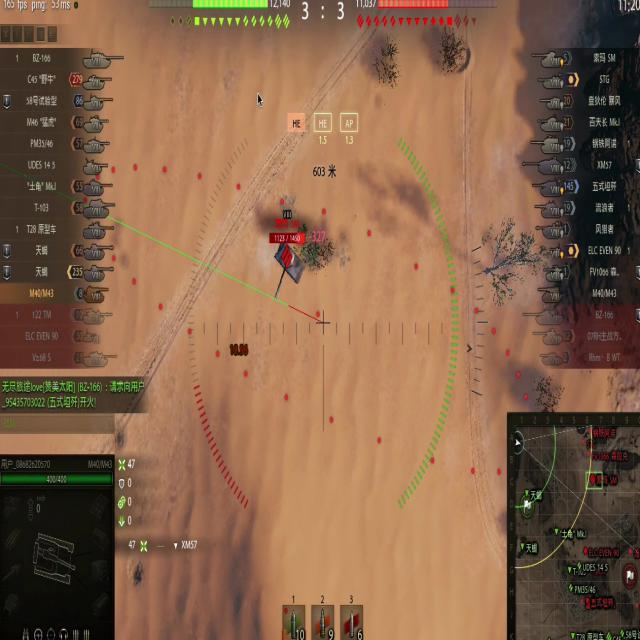tank: (268, 232, 313, 289)
